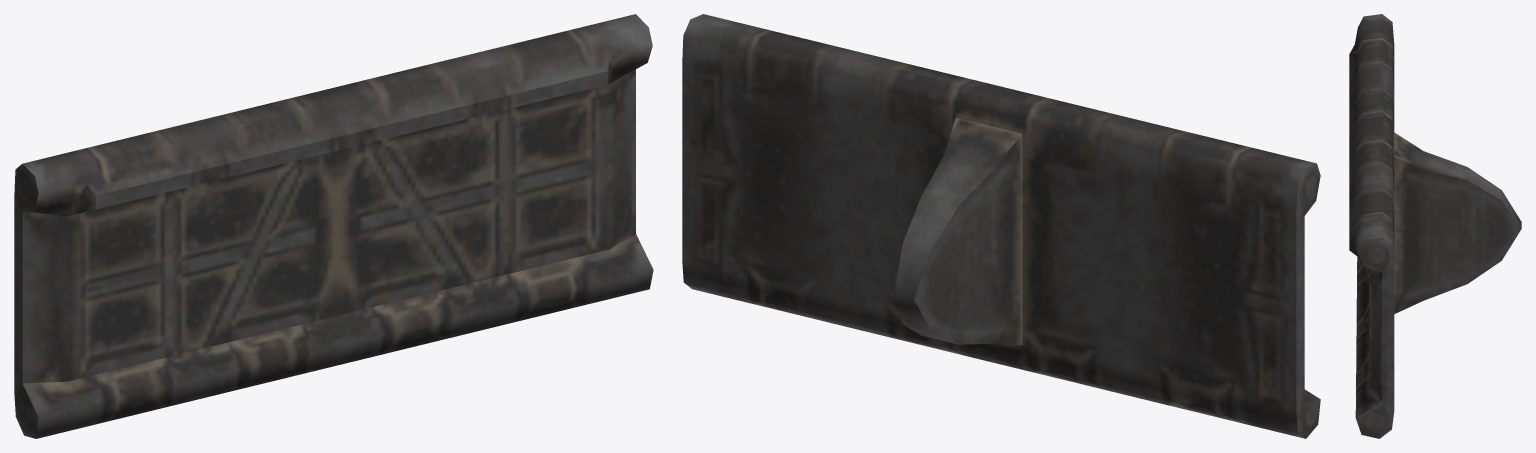
3 renders of one model, left to right at view 1: azimuth 30°, elevation 25°; view 2: azimuth 150°, elevation 25°; view 3: azimuth 270°, elevation 25°, orthographic. The views are drawn at different scales.
Parts seen in each view (by area): view 1: set_0_group_0; view 2: set_0_group_0; view 3: set_0_group_0.
Boxes of the visible parts, x1,y1,x2,y2 form: set_0_group_0: [14, 14, 653, 438]; set_0_group_0: [682, 14, 1320, 438]; set_0_group_0: [1349, 14, 1521, 438].
Bounding box in the file's own units: 0.5015 × 0.2069 × 0.1599.
Materials: 1 (1 with a texture image).
